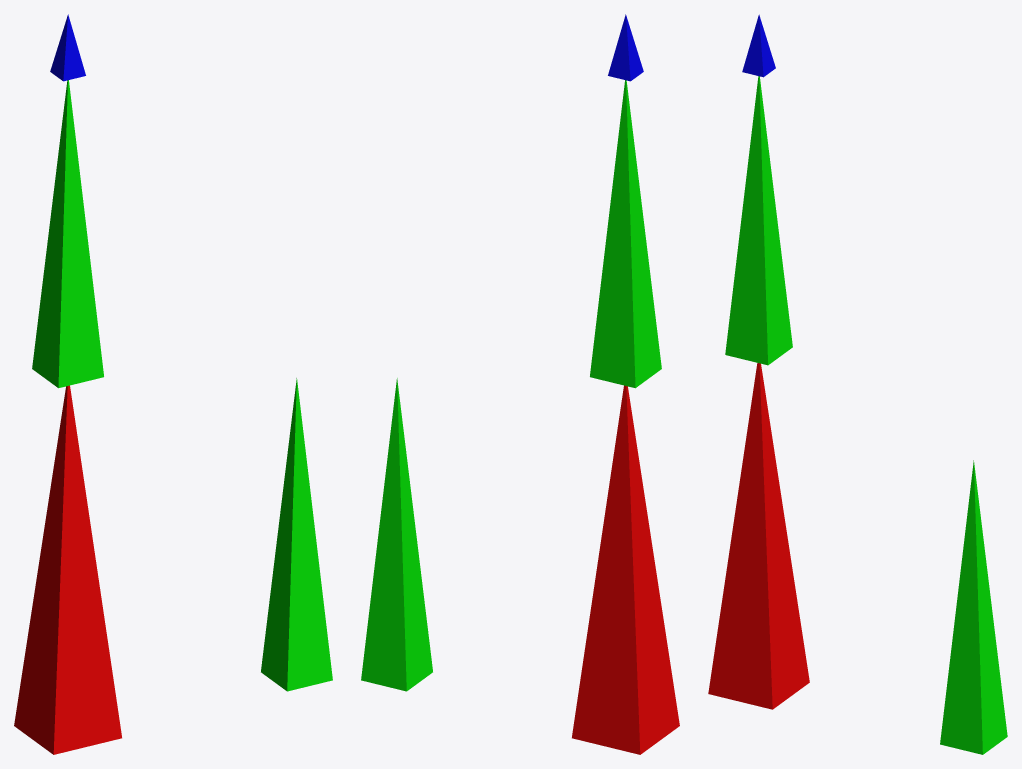
File: arm2.dae
3 renders of one model, left to right at view 1: azimuth 30°, elevation 25°; view 2: azimuth 150°, elevation 25°; view 3: azimuth 330°, elevation 25°, orthographic. The views are drawn at different scales.
Parts seen in each view (by area): view 1: Product2 (×2), Product, Product3; view 2: Product2 (×2), Product, Product3; view 3: Product2 (×2), Product, Product3.
Boxes of the visible parts, x1,y1,x2,y2 form: Product2 (×2): (32,80,332,691); Product: (14,385,121,754); Product3: (50,14,85,81); Product2 (×2): (361,80,661,691); Product: (572,385,679,754); Product3: (608,14,643,81); Product2 (×2): (725,76,1007,754); Product: (708,363,809,709); Product3: (742,14,775,77).
Size of the model in its own units: 25000 by 6000 by 60000.
